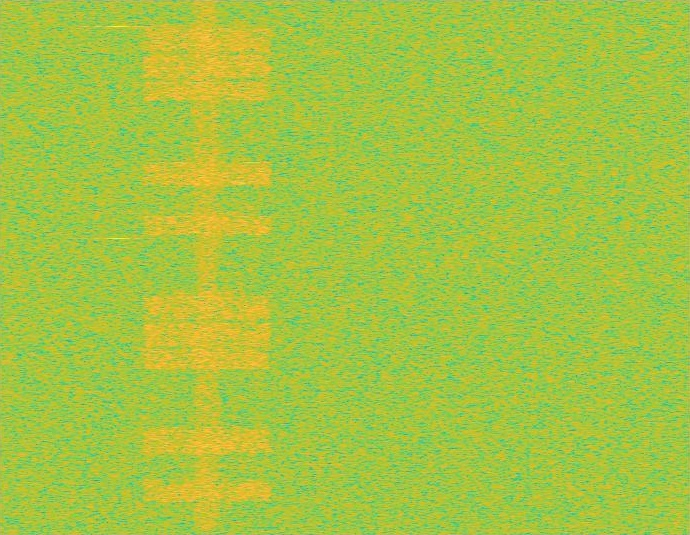DSSS: (191, 0, 223, 534)
LTE: (138, 0, 276, 534)
Radar: (111, 0, 125, 534)
